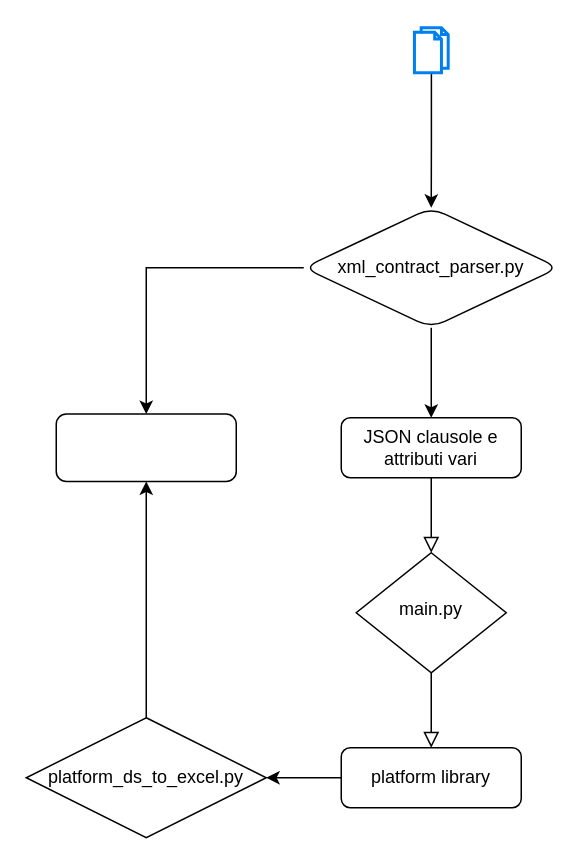
This 585x864 diagram has some shape labels left out. Each missing label, with the box of its shape:
excel clausole e attributi vari: (55, 412, 236, 482)
xml taggati: (412, 26, 449, 74)
